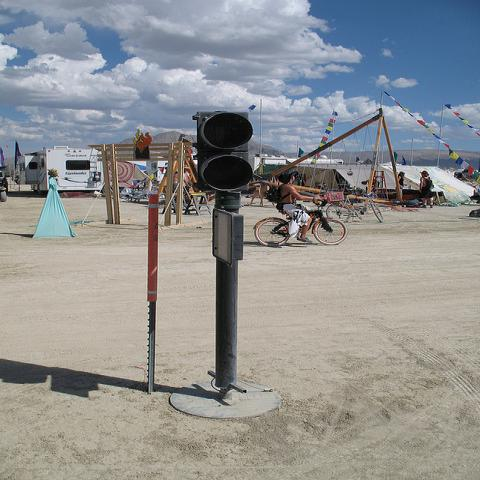truck: (17, 148, 108, 193)
